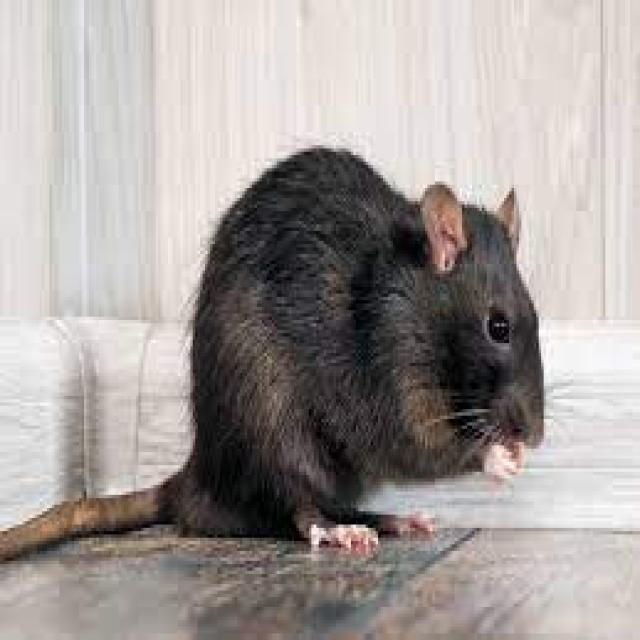rat: (183, 139, 558, 554)
